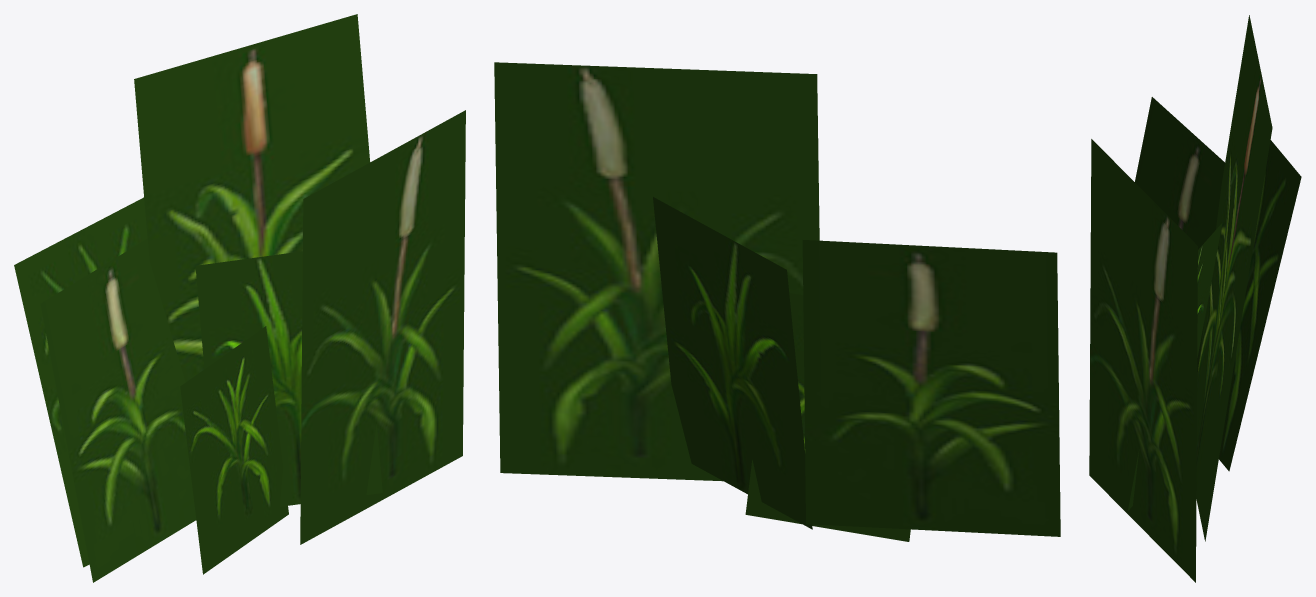
File: Stage_CaoYuan_ZhiWu01.FBX
3 renders of one model, left to right at view 1: azimuth 30°, elevation 25°; view 2: azimuth 150°, elevation 25°; view 3: azimuth 270°, elevation 25°, orthographic. The views are drawn at different scales.
Parts seen in each view (by area): view 1: Stage_CaoYuan_ZhiWu01; view 2: Stage_CaoYuan_ZhiWu01; view 3: Stage_CaoYuan_ZhiWu01.
Boxes of the visible parts, x1,y1,x2,y2 form: Stage_CaoYuan_ZhiWu01: [14, 14, 465, 582]; Stage_CaoYuan_ZhiWu01: [494, 62, 1060, 541]; Stage_CaoYuan_ZhiWu01: [1089, 15, 1301, 582].
Size of the model in its own units: 163 by 155 by 67.86.
